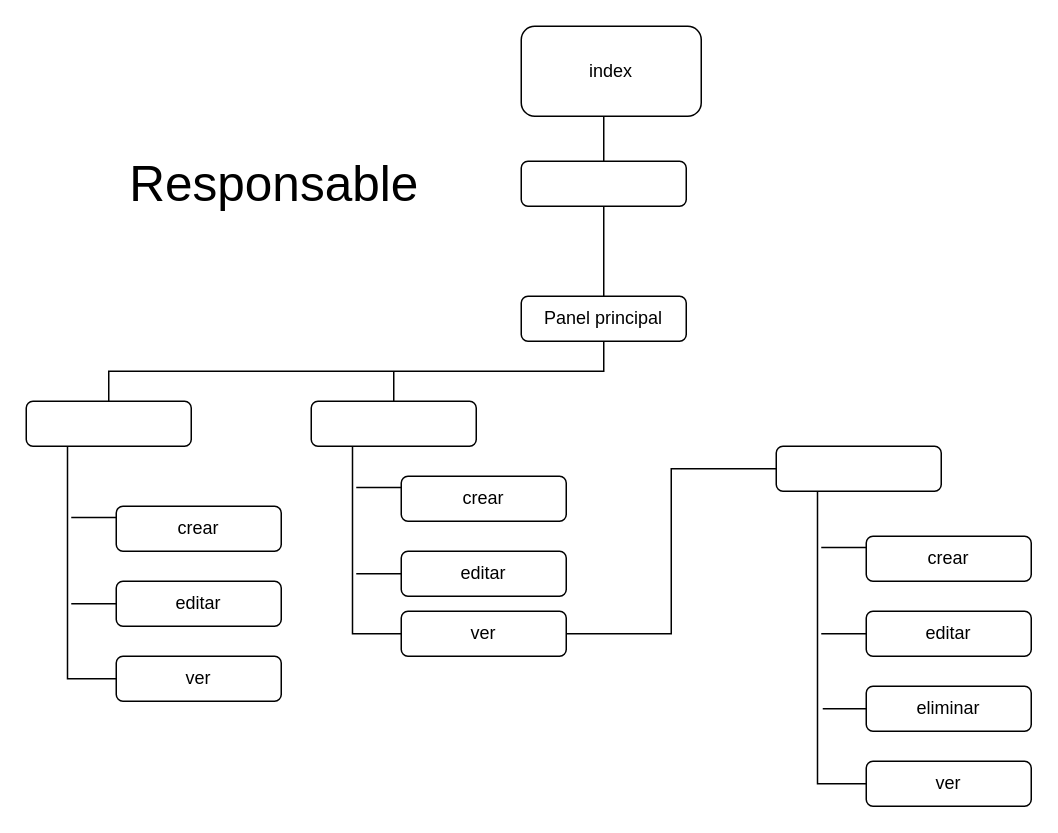
Image size: 1058x833. Some labels were removed from this diagram. The shapes that lost their labels are listed below. From the top down, each one's box as (x1, y1, x2, y2) in pixels, then its label:
(520, 160, 686, 206): iniciar sesion
(25, 400, 191, 446): Sesion
(310, 400, 476, 446): Documento
(775, 445, 941, 491): Observacion
